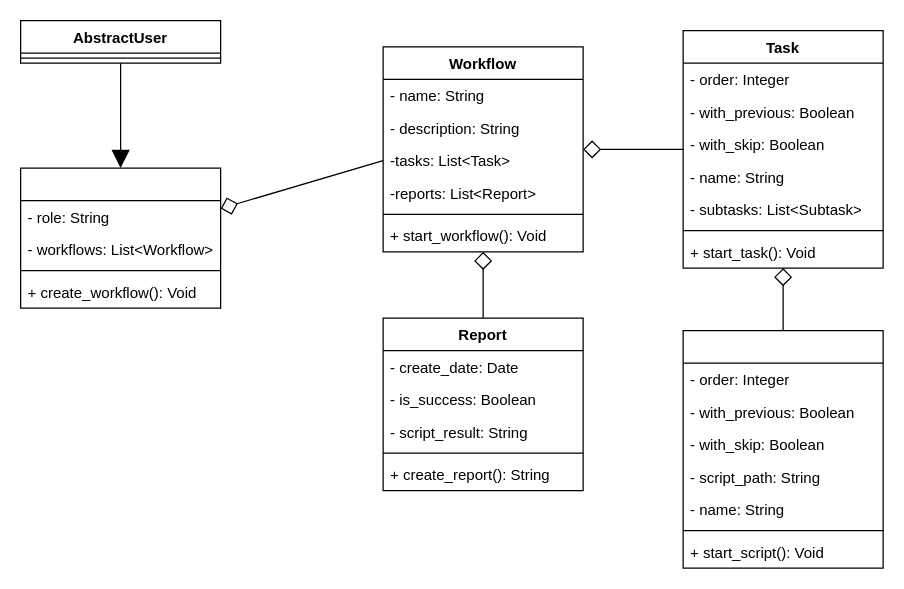
Image size: 904x589. Some labels were removed from this diagram. The shapes that lost their labels are listed below. From the top down, each one's box as (x1, y1, x2, y2) in pixels, then its label:
(19, 167, 221, 308): User
(682, 329, 883, 568): Subtask
